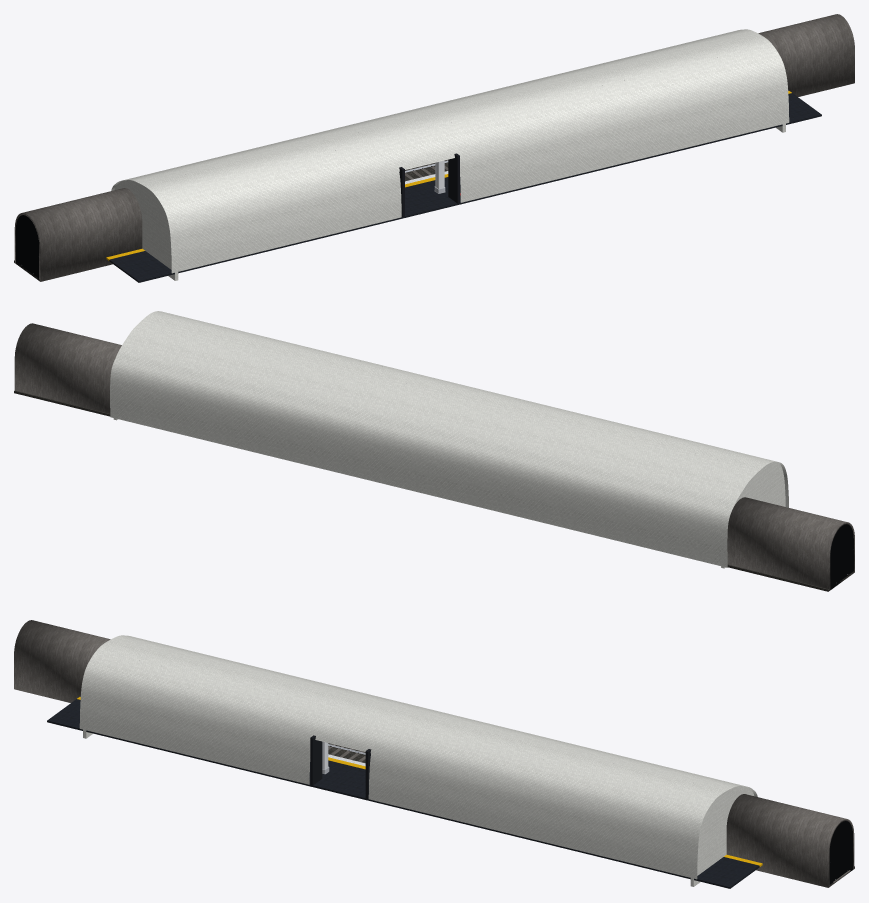
File: station.glb
3 renders of one model, top to bottom at view 1: azimuth 30°, elevation 25°; view 2: azimuth 150°, elevation 25°; view 3: azimuth 330°, elevation 25°, orthographic.
Visible parts, largest first — view 1: Vault_Tiles, St_Tunnel_Lining_West, St_Tunnel_Lining_East, Platform_Dark_Tile, St_End_Wall_West, St_Tunnel_End_West, Concourse_Wall; view 2: Vault_Tiles, St_Tunnel_Lining_West, St_Tunnel_Lining_East, St_End_Wall_West, St_Tunnel_End_West, St_Ballast; view 3: Vault_Tiles, St_Tunnel_Lining_East, St_Tunnel_Lining_West, Platform_Dark_Tile, St_End_Wall_East, St_Tunnel_End_East, Concourse_Wall.
Part boxes in pixels (x1=…): Vault_Tiles: x1=111, y1=29, x2=789, y2=273; St_Tunnel_Lining_West: x1=14, y1=188, x2=142, y2=281; St_Tunnel_Lining_East: x1=758, y1=14, x2=854, y2=96; Platform_Dark_Tile: x1=109, y1=93, x2=821, y2=282; St_End_Wall_West: x1=114, y1=178, x2=178, y2=280; St_Tunnel_End_West: x1=16, y1=215, x2=39, y2=280; Concourse_Wall: x1=399, y1=153, x2=459, y2=216; Vault_Tiles: x1=110, y1=311, x2=788, y2=567; St_Tunnel_Lining_West: x1=727, y1=497, x2=854, y2=590; St_Tunnel_Lining_East: x1=14, y1=323, x2=121, y2=413; St_End_Wall_West: x1=721, y1=460, x2=785, y2=568; St_Tunnel_End_West: x1=830, y1=524, x2=853, y2=589; St_Ballast: x1=14, y1=390, x2=854, y2=591; Vault_Tiles: x1=79, y1=635, x2=757, y2=879; St_Tunnel_Lining_East: x1=726, y1=794, x2=854, y2=887; St_Tunnel_Lining_West: x1=14, y1=620, x2=110, y2=702; Platform_Dark_Tile: x1=47, y1=699, x2=759, y2=888; St_End_Wall_East: x1=690, y1=784, x2=754, y2=886; St_Tunnel_End_East: x1=829, y1=821, x2=852, y2=884; Concourse_Wall: x1=310, y1=735, x2=371, y2=798.
Bounding box in the file's own units: 62.08 × 5.54 × 8.15.
Materials: 51 (13 with a texture image).
